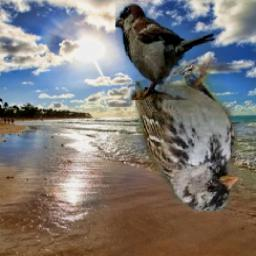Sparrow: (134, 56, 238, 212), (115, 5, 216, 101)
